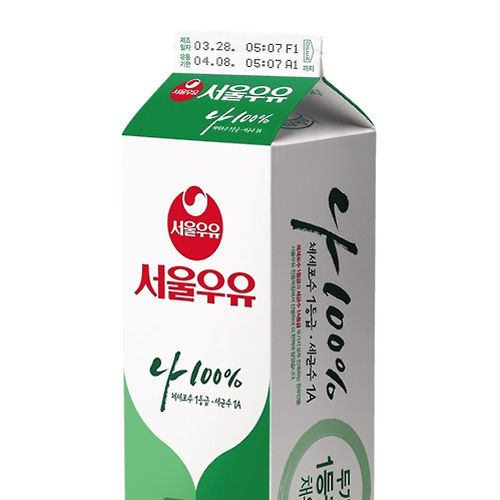milk: (118, 31, 378, 499)
